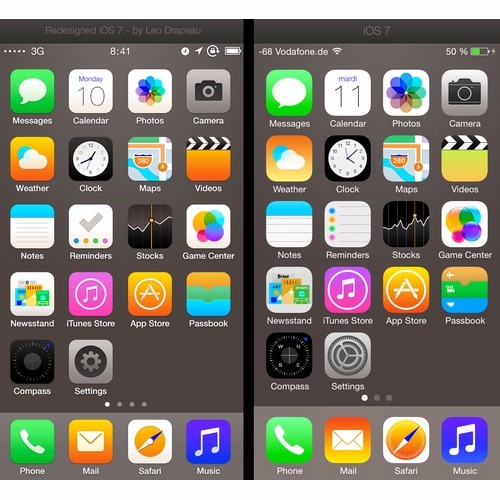calendar: (323, 68, 372, 117), (68, 66, 114, 114)
camera: (440, 69, 488, 116), (185, 68, 231, 114)
clock: (323, 134, 371, 182), (68, 135, 114, 182)
mail: (323, 416, 371, 464), (68, 420, 113, 465)
message: (265, 68, 313, 116), (9, 68, 54, 114)
phone: (266, 415, 313, 463), (8, 418, 55, 464)
